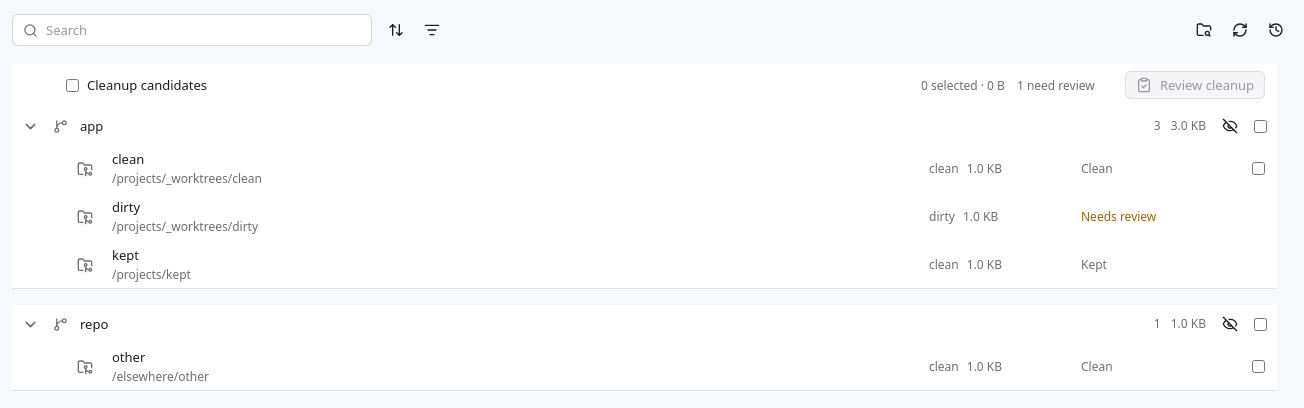
WorktreeDialog › selects only eligible visible trees in one repository and can clear that selection
The width and height of the screenshot is (1304, 408).
Expected: the text "/projects/_worktrees/clean" is shown, [112,170,262,187]
Click the checkbox named "Select all eligible Worktrees" next to "3.0 KB" at (1260, 126), box [1254,120,1267,132]
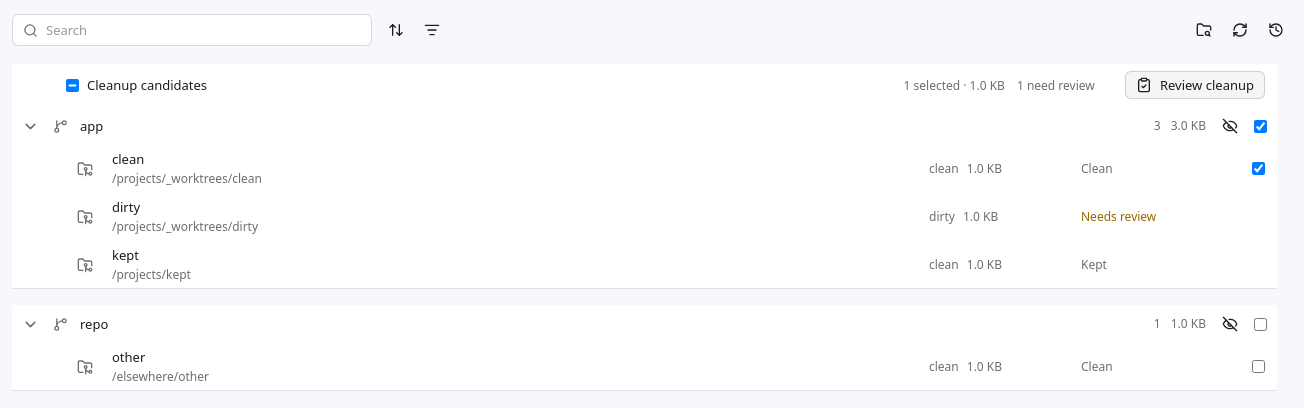
Result: the checkbox named "Select Worktree for review" in the row of "/projects/_worktrees/clean" is checked at [1252,162,1265,175]
Click the checkbox named "Select all eligible Worktrees" next to "3.0 KB" at (1260, 126), box [1254,120,1267,132]
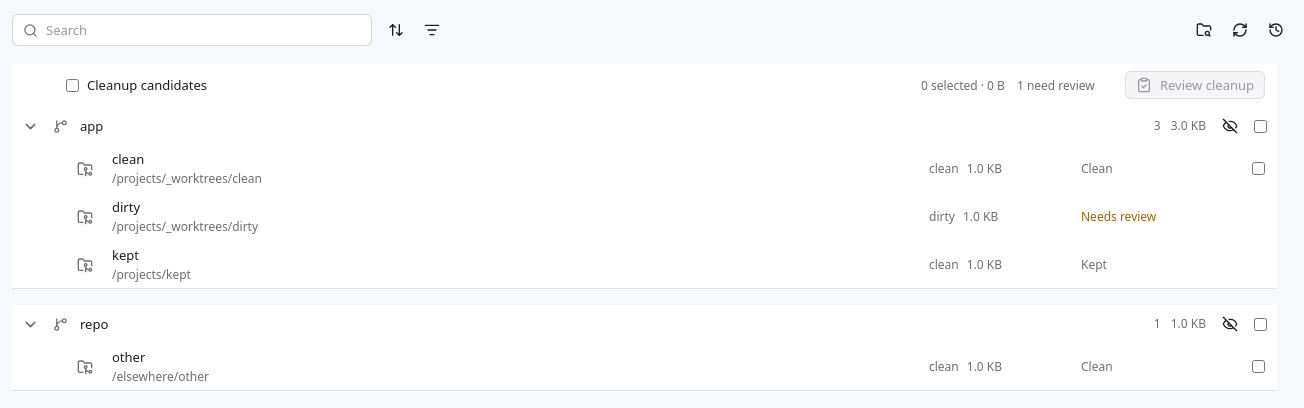
Result: the checkbox named "Select Worktree for review" in the row of "/projects/_worktrees/clean" is not checked at [1252,162,1265,175]
